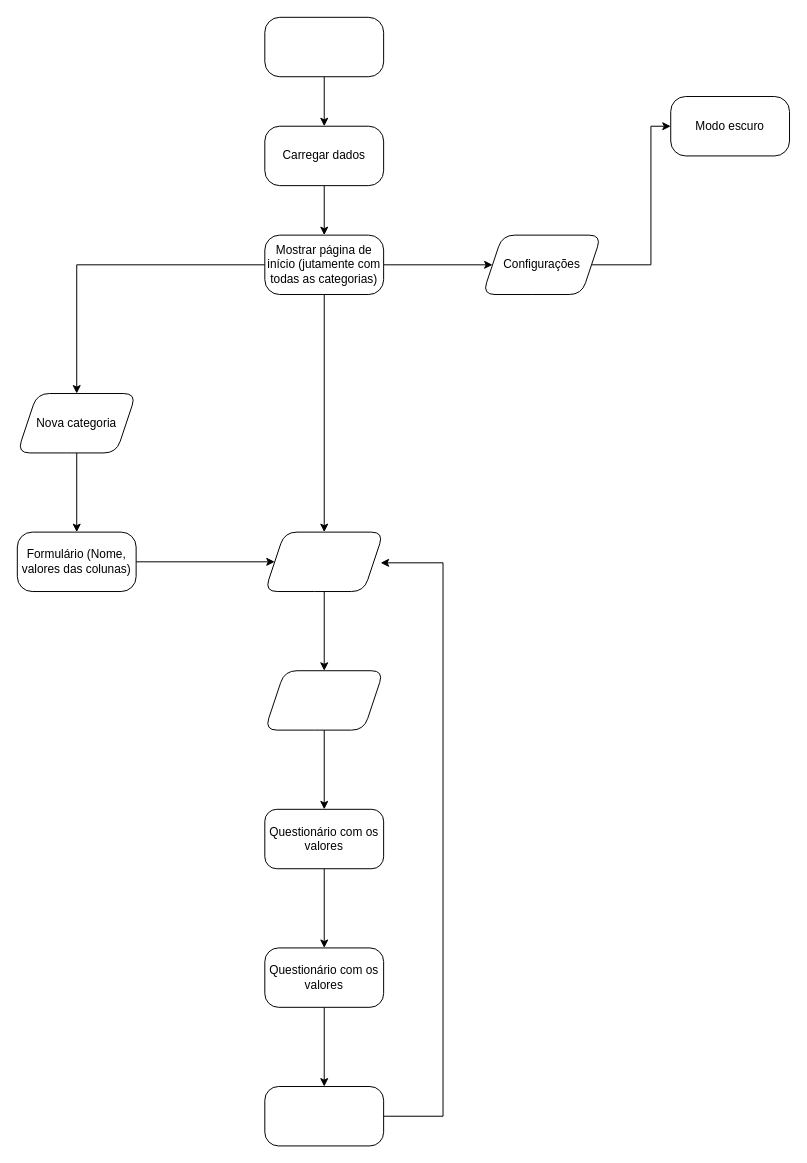
This 807x1163 diagram has some shape labels left out. The shapes that lost their labels are listed below. From the top down, each one's centre as x and y in pixels, then its label:
At (324,46): "Início".
At (324,561): "Categoria".
At (324,700): "Nova terefa".
At (324,1116): "Armazenar dados no xml".
